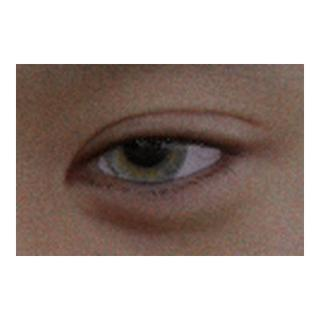pupil: (123, 121, 169, 167)
